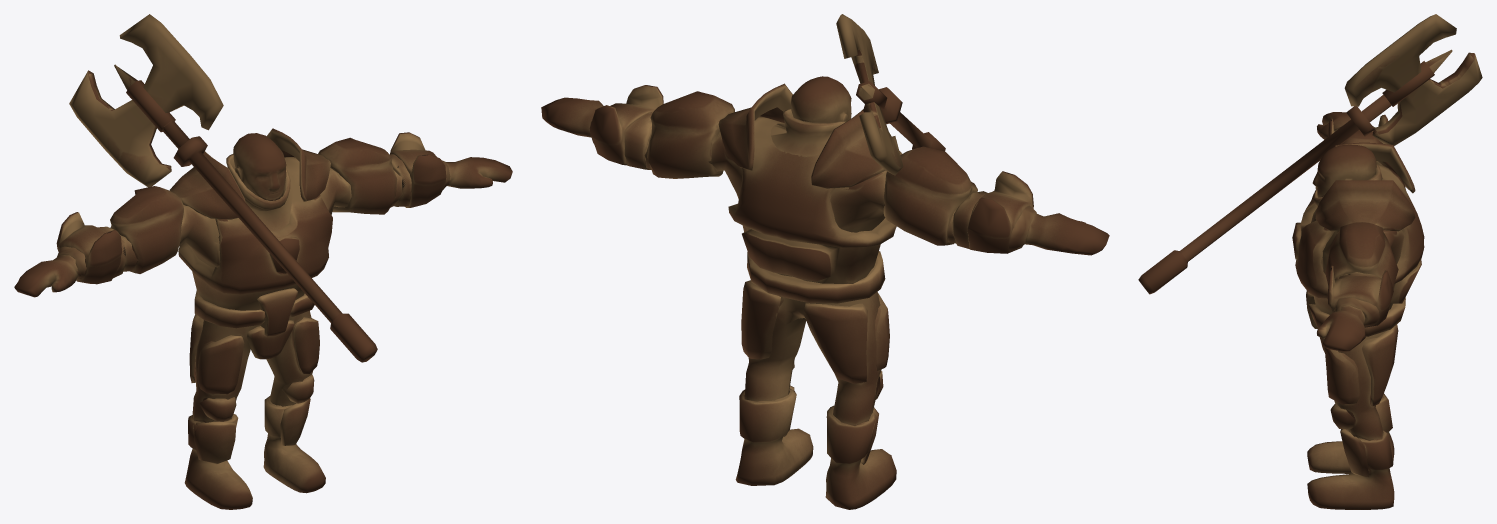
File: raban_statue_01.fbx
3 views of the same model, side by side, from view 1: azimuth 30°, elevation 25°; view 2: azimuth 150°, elevation 25°; view 3: azimuth 270°, elevation 25° (orthographic). The views are drawn at different scales.
Parts seen in each view (by area): view 1: Raban.001, axe.001; view 2: Raban.001, axe.001; view 3: Raban.001, axe.001.
Part boxes in pixels (x1,y1,x2,y2): Raban.001: (14, 128, 512, 509); axe.001: (69, 14, 377, 362); Raban.001: (541, 76, 1109, 509); axe.001: (836, 14, 945, 175); Raban.001: (1292, 112, 1424, 509); axe.001: (1138, 14, 1482, 294).
Size of the model in its own units: 4659 by 4077 by 2895.
